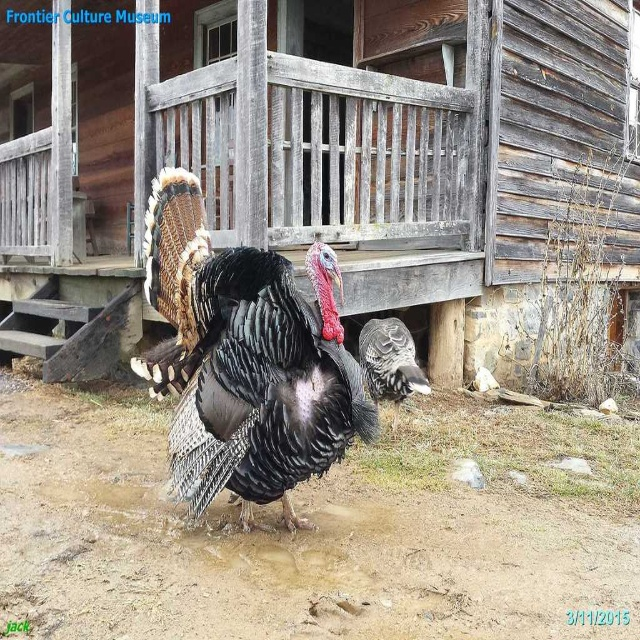Turkey: (130, 166, 382, 534), (358, 317, 432, 440)
